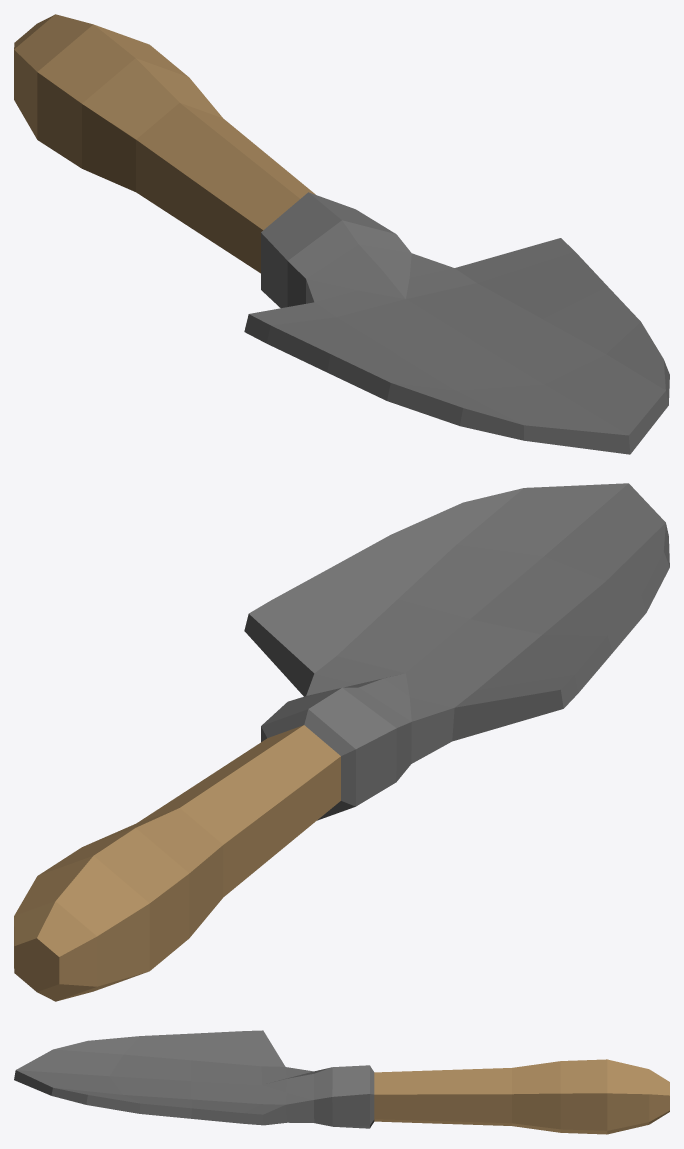
Rendered from shovel_s.fbx.
The picture shows the model from 3 angles, top to bottom: view 1: azimuth 30°, elevation 25°; view 2: azimuth 150°, elevation 25°; view 3: azimuth 270°, elevation 25°; orthographic projection. The views are drawn at different scales.
Visible parts, largest first — view 1: HandheldShovel; view 2: HandheldShovel; view 3: HandheldShovel.
Part boxes in pixels (x1,y1,x2,y2): HandheldShovel: (14,14,669,454); HandheldShovel: (14,483,669,1001); HandheldShovel: (14,1030,669,1134).
Bounding box in the file's own units: 11.26 × 4.57 × 36.23.
